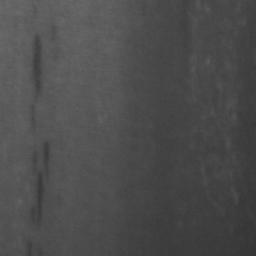Inclusion: (33, 36, 42, 93), (38, 173, 45, 218), (44, 142, 51, 166)
